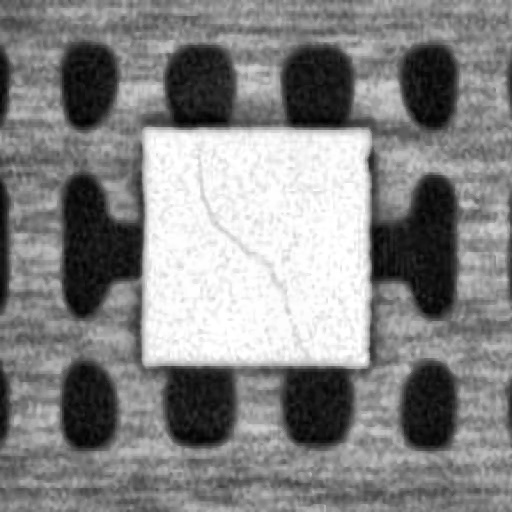DIE_CRACK: (195, 154, 301, 345)
